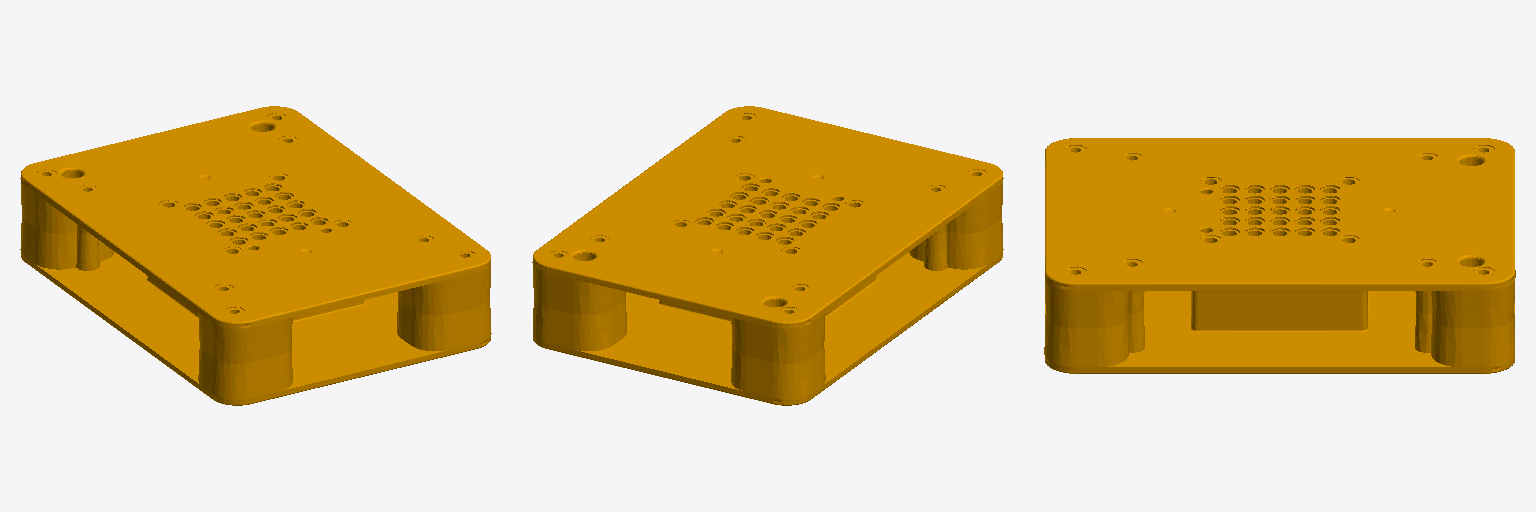
URDF robot description (firefighter):
<?xml version="1.0"?>
<robot name="firefighter">

  <!-- Base link -->
  <link name="g_base">
    <visual>
      <origin xyz="0.0 0 -0.03" rpy="0 0 1.5708"/>
      <geometry>
        <mesh filename="meshes/G_base.stl"/>
      </geometry>
    </visual>
    <collision>
      <origin xyz="0.0 0 -0.03" rpy="0 0 1.5708"/>
      <geometry>
        <mesh filename="meshes/G_base.stl"/>
      </geometry>
    </collision>
  </link>

  <!-- Joint 1 -->
  <link name="joint1">
    <visual>
      <origin xyz="0.0 0 0" rpy="0 0 -1.5708"/>
      <geometry>
        <mesh filename="meshes/joint1.stl"/>
      </geometry>
    </visual>
    <collision>
      <origin xyz="0.0 0 0" rpy="0 0 -1.5708"/>
      <geometry>
        <mesh filename="meshes/joint1.stl"/>
      </geometry>
    </collision>
  </link>

  <!-- Joint 2 -->
  <link name="joint2">
    <visual>
      <origin xyz="0.0 0 -0.06096" rpy="0 0 -1.5708"/>
      <geometry>
        <mesh filename="meshes/joint2.stl"/>
      </geometry>
    </visual>
    <collision>
      <origin xyz="0.0 0 -0.06096" rpy="0 0 -1.5708"/>
      <geometry>
        <mesh filename="meshes/joint2.stl"/>
      </geometry>
    </collision>
  </link>

  <!-- Joint 3 -->
  <link name="joint3">
    <visual>
      <origin xyz="0.0 0 0.03256" rpy="0 -1.5708 0"/>
      <geometry>
        <mesh filename="meshes/joint3.stl"/>
      </geometry>
    </visual>
    <collision>
      <origin xyz="0.0 0 0.03256" rpy="0 -1.5708 0"/>
      <geometry>
        <mesh filename="meshes/joint3.stl"/>
      </geometry>
    </collision>
  </link>

  <!-- Joint 4 -->
  <link name="joint4">
    <visual>
      <origin xyz="0.0 0 0.03056" rpy="0 -1.5708 0"/>
      <geometry>
        <mesh filename="meshes/joint4.stl"/>
      </geometry>
    </visual>
    <collision>
      <origin xyz="0.0 0 0.03056" rpy="0 -1.5708 0"/>
      <geometry>
        <mesh filename="meshes/joint4.stl"/>
      </geometry>
    </collision>
  </link>

  <!-- Joint 5 -->
  <link name="joint5">
    <visual>
      <origin xyz="0.0 0 -0.03356" rpy="-1.5708 0 0"/>
      <geometry>
        <mesh filename="meshes/joint5.stl"/>
      </geometry>
    </visual>
    <collision>
      <origin xyz="0.0 0 -0.03356" rpy="-1.5708 0 0"/>
      <geometry>
        <mesh filename="meshes/joint5.stl"/>
      </geometry>
    </collision>
  </link>

  <!-- Joint 6 -->
  <link name="joint6">
    <visual>
      <origin xyz="0 0 -0.038" rpy="0 0 0"/>
      <geometry>
        <mesh filename="meshes/joint6.stl"/>
      </geometry>
    </visual>
    <collision>
      <origin xyz="0 0 -0.038" rpy="0 0 0"/>
      <geometry>
        <mesh filename="meshes/joint6.stl"/>
      </geometry>
    </collision>
  </link>

  <!-- Flange / Joint7 -->
  <link name="joint6_flange">
    <visual>
      <origin xyz="0.0 0 -0.012" rpy="0 0 0"/>
      <geometry>
        <mesh filename="meshes/joint7.stl"/>
      </geometry>
    </visual>
    <collision>
      <origin xyz="0.0 0 -0.012" rpy="0 0 0"/>
      <geometry>
        <mesh filename="meshes/joint7.stl"/>
      </geometry>
    </collision>
  </link>

  <!-- Fixed joint: base → joint1 -->
  <joint name="g_base_to_joint1" type="fixed">
    <origin xyz="0 0 0" rpy="0 0 0"/>
    <parent link="g_base"/>
    <child  link="joint1"/>
  </joint>

  <!-- Revolute: joint1 → joint2 -->
  <joint name="joint2_to_joint1" type="revolute">
    <origin xyz="0 0 0.13156" rpy="0 0 0"/>
    <axis  xyz="0 0 1"/>
    <limit lower="-2.9322" upper="2.9322" effort="1000" velocity="0"/>
    <parent link="joint1"/>
    <child  link="joint2"/>
  </joint>

  <!-- Revolute: joint2 → joint3 -->
  <joint name="joint3_to_joint2" type="revolute">
    <origin xyz="0 0 0" rpy="0 1.5708 -1.5708"/>
    <axis  xyz="0 0 1"/>
    <limit lower="-2.3562" upper="2.3562" effort="1000" velocity="0"/>
    <parent link="joint2"/>
    <child  link="joint3"/>
  </joint>

  <!-- Revolute: joint3 → joint4 -->
  <joint name="joint4_to_joint3" type="revolute">
    <origin xyz="-0.1104 0 0" rpy="0 0 0"/>
    <axis  xyz="0 0 1"/>
    <limit lower="-2.618" upper="2.618" effort="1000" velocity="0"/>
    <parent link="joint3"/>
    <child  link="joint4"/>
  </joint>

  <!-- Revolute: joint4 → joint5 -->
  <joint name="joint5_to_joint4" type="revolute">
    <origin xyz="-0.096 0 0.06462" rpy="0 0 -1.5708"/>
    <axis  xyz="0 0 1"/>
    <limit lower="-2.5307" upper="2.5307" effort="1000" velocity="0"/>
    <parent link="joint4"/>
    <child  link="joint5"/>
  </joint>

  <!-- Revolute: joint5 → joint6 -->
  <joint name="joint6_to_joint5" type="revolute">
    <origin xyz="0 -0.07318 0" rpy="1.5708 -1.5708 0"/>
    <axis  xyz="0 0 1"/>
    <limit lower="-2.8798" upper="2.8798" effort="1000" velocity="0"/>
    <parent link="joint5"/>
    <child  link="joint6"/>
  </joint>

  <!-- Revolute: joint6 → flange -->
  <joint name="joint6output_to_joint6" type="revolute">
    <origin xyz="0 0.0456 0" rpy="-1.5708 0 0"/>
    <axis  xyz="0 0 1"/>
    <limit lower="-3.1416" upper="3.1416" effort="1000" velocity="0"/>
    <parent link="joint6"/>
    <child  link="joint6_flange"/>
  </joint>

</robot>

--- Render facts (derived) ---
Views: 3 orthographic renders of the robot side by side, from view 1: azimuth 30°, elevation 25°; view 2: azimuth 150°, elevation 25°; view 3: azimuth 270°, elevation 25°.
Robot: firefighter — 8 links, 7 joints (6 revolute, 1 fixed); root link g_base; default pose: all joints at 0.
Links seen in each view (by area): view 1: g_base; view 2: g_base; view 3: g_base.
Link boxes in pixels (bbox=[...]): g_base: bbox=[20, 106, 491, 405]; g_base: bbox=[532, 106, 1003, 405]; g_base: bbox=[1044, 138, 1515, 373].
Bounding box of the posed robot: 110 × 150 × 32 m (x, y, z).
Meshes: 8 distinct files referenced, 8 mesh visuals loaded (8 binary STL).
